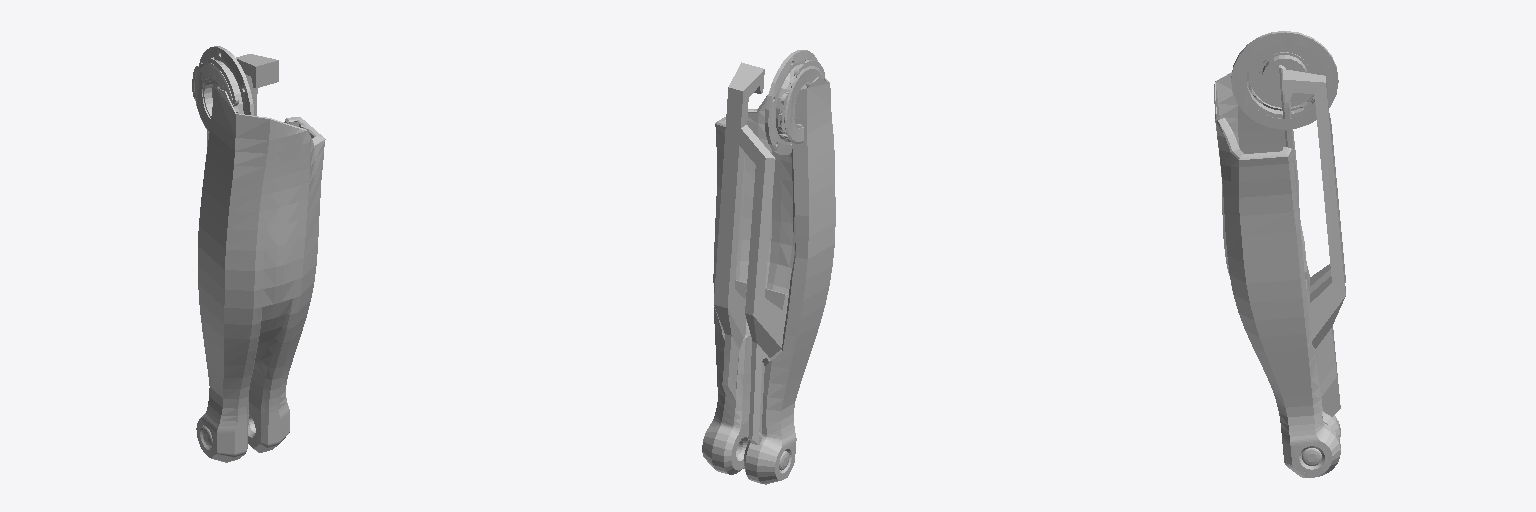
The model's file is rightThigh.obj.
3 renders of one model, left to right at view 1: azimuth 30°, elevation 25°; view 2: azimuth 150°, elevation 25°; view 3: azimuth 270°, elevation 25°, orthographic.
Parts seen in each view (by area): view 1: rightThigh1; view 2: rightThigh1; view 3: rightThigh1.
Part boxes in pixels (x1,y1,x2,y2): rightThigh1: (192, 46, 325, 462); rightThigh1: (702, 50, 835, 484); rightThigh1: (1214, 31, 1345, 477).
Size of the model in its own units: 0.7562 by 3.1 by 0.8782.